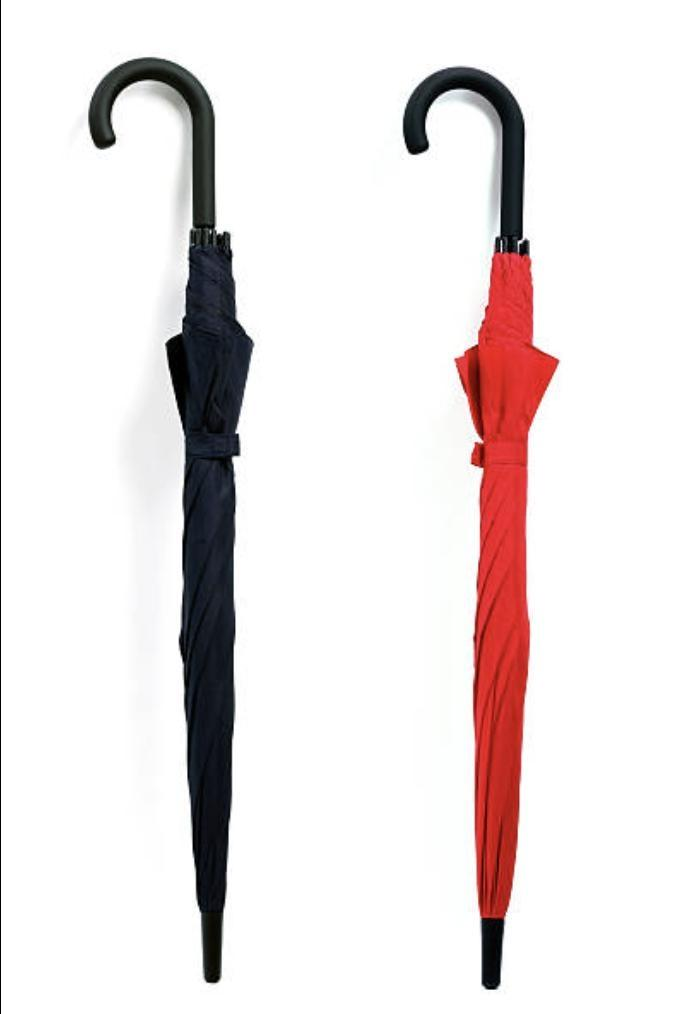Umbrella: (90, 57, 251, 982), (404, 68, 558, 988)
